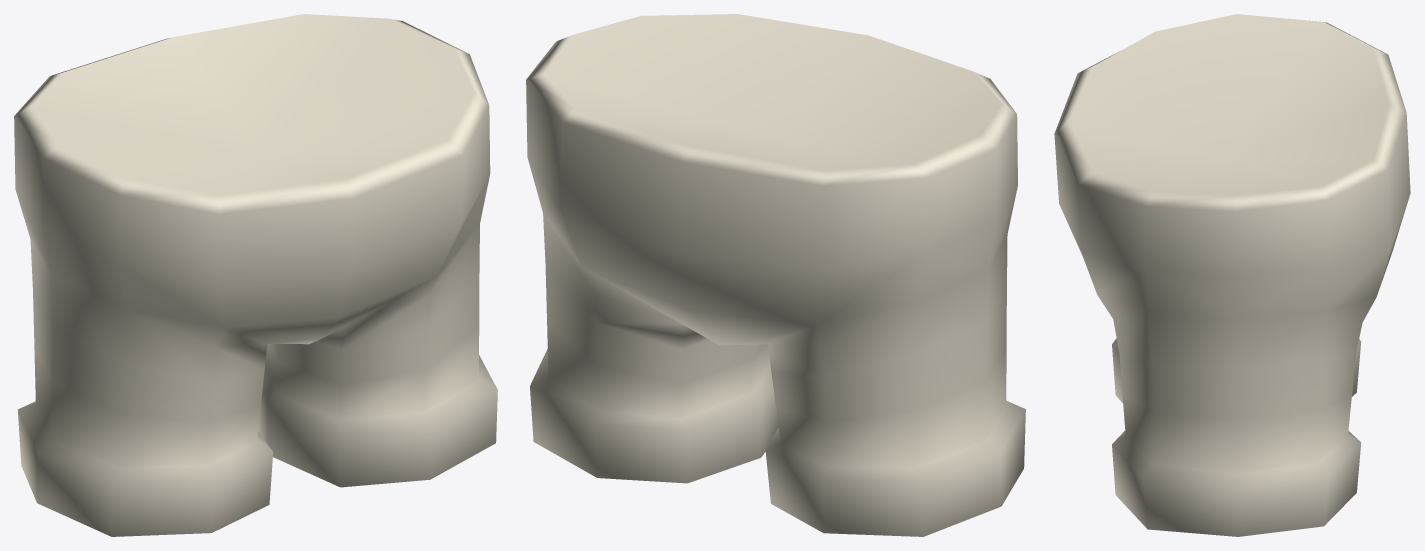
The model's file is Bottom_8.fbx.
3 renders of one model, left to right at view 1: azimuth 30°, elevation 25°; view 2: azimuth 150°, elevation 25°; view 3: azimuth 270°, elevation 25°, orthographic. The views are drawn at different scales.
Visible parts, largest first — view 1: Bottom_8; view 2: Bottom_8; view 3: Bottom_8.
Part boxes in pixels (<box>): Bottom_8: <box>14,14,497,536</box>; Bottom_8: <box>526,14,1025,536</box>; Bottom_8: <box>1054,14,1410,536</box>.
Bounding box in the file's own units: 39.48 × 32.12 × 29.68.
